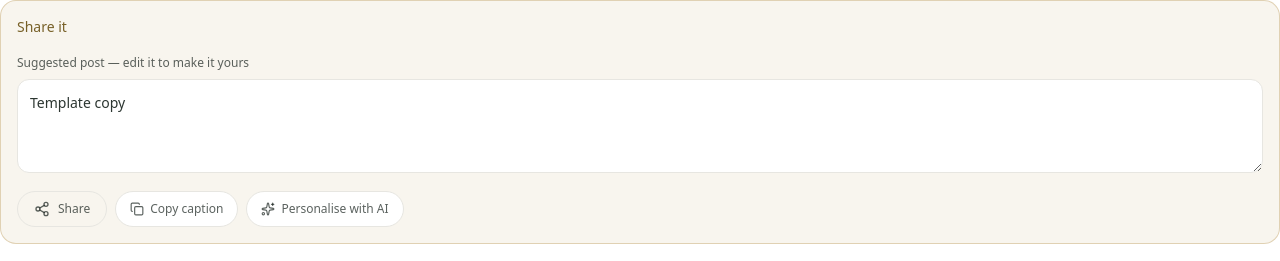
ShareMoment › replaces the copy with an AI suggestion when personalise succeeds
This screenshot has width=1280, height=261.
What coordinates should you click on to do the following:
click the button "Personalise with AI"
I would click on:
 (325, 209)
Its box is [246,191,404,227].
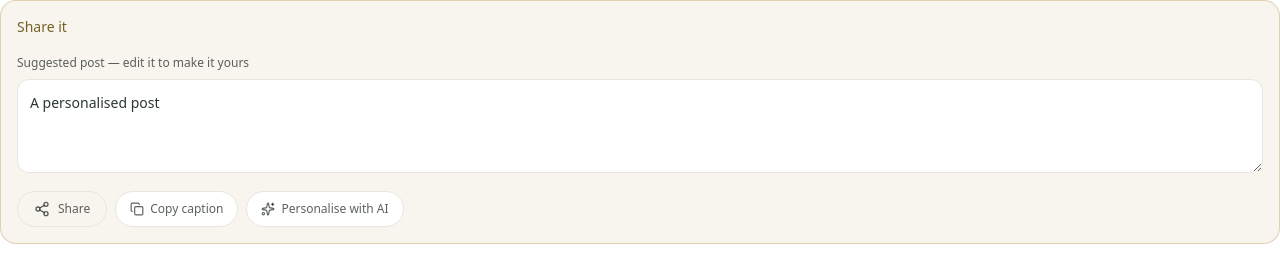
expect the text box holds "A personalised post": met, box [17,79,1263,173]
